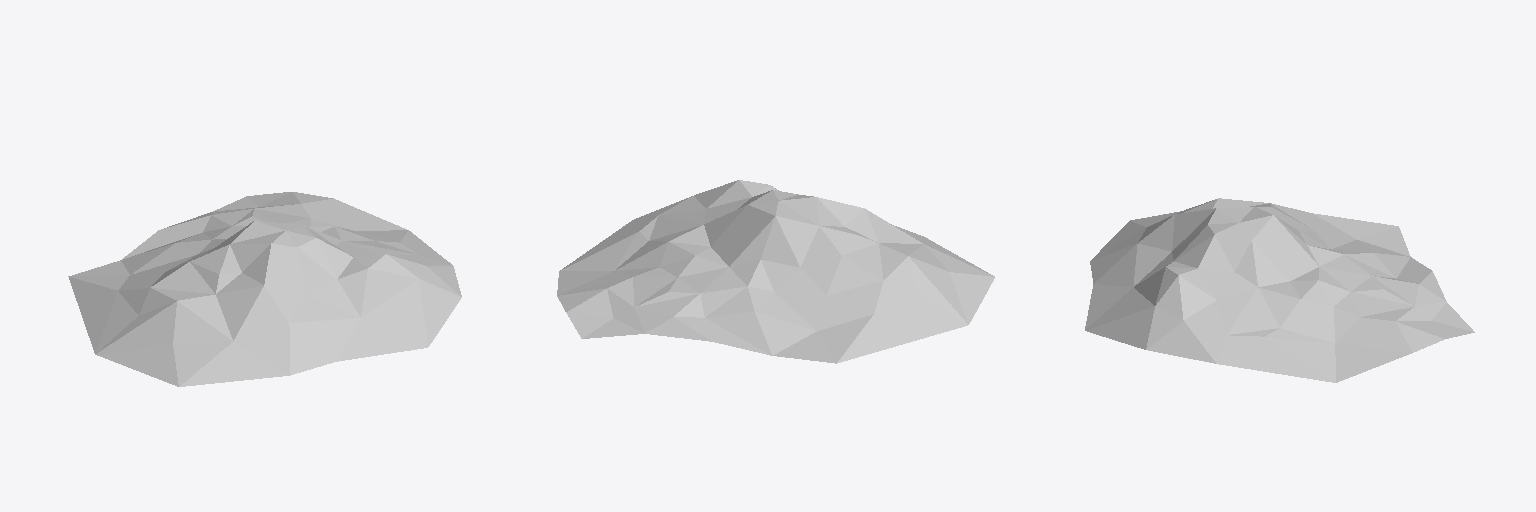
The model's file is Stone1.obj.
3 views of the same model, side by side, from view 1: azimuth 30°, elevation 25°; view 2: azimuth 150°, elevation 25°; view 3: azimuth 270°, elevation 25° (orthographic).
Visible parts, largest first — view 1: Island_1_Big_Rocks_3; view 2: Island_1_Big_Rocks_3; view 3: Island_1_Big_Rocks_3.
Part boxes in pixels (x1,y1,x2,y2): Island_1_Big_Rocks_3: (68, 192, 461, 386); Island_1_Big_Rocks_3: (557, 180, 994, 363); Island_1_Big_Rocks_3: (1085, 198, 1474, 382).
Bounding box in the file's own units: 11.92 × 2.51 × 11.15.